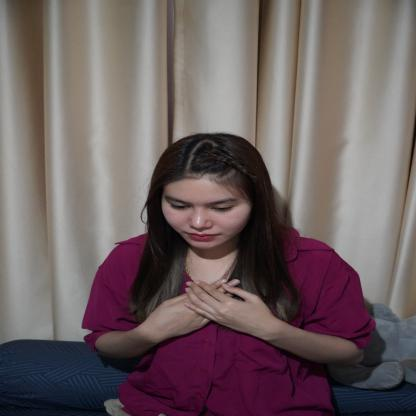Grieve: (133, 278, 278, 342)
